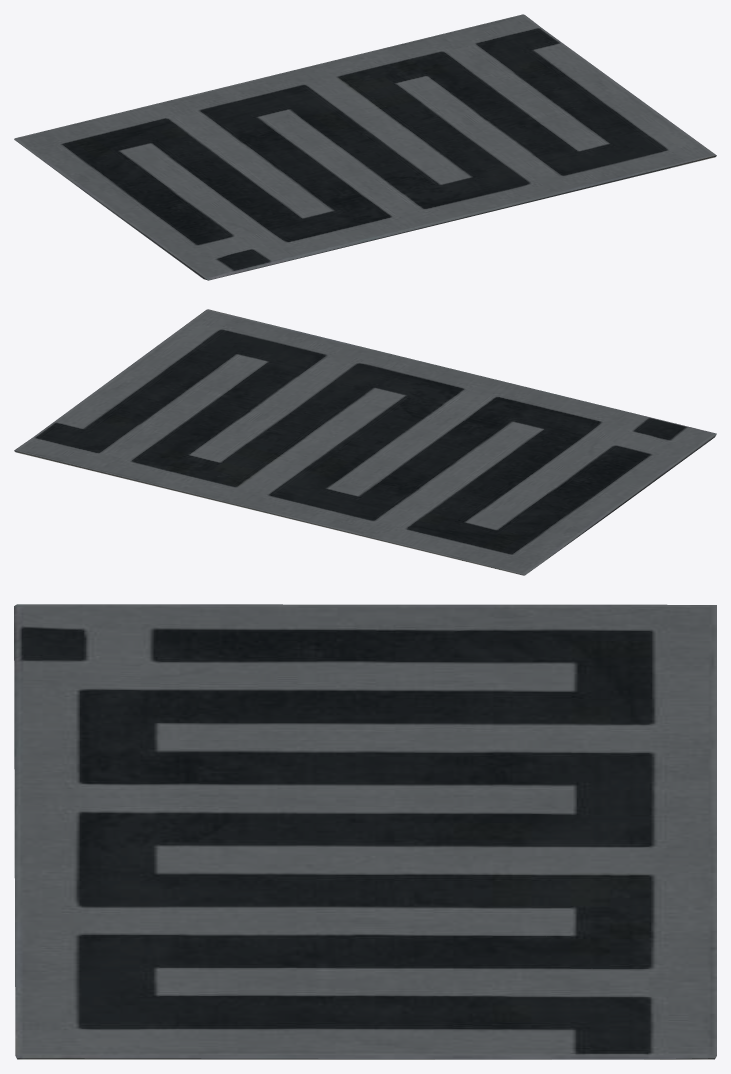
File: 12 - BLÅSKATA Rug - blackgrey 105x160 cm.glb
3 views of the same model, one above another, from view 1: azimuth 30°, elevation 25°; view 2: azimuth 150°, elevation 25°; view 3: azimuth 270°, elevation 25° (orthographic). The views are drawn at different scales.
Visible parts, largest first — view 1: ASY_ART_00569520_S01_NV01; view 2: ASY_ART_00569520_S01_NV01; view 3: ASY_ART_00569520_S01_NV01.
Boxes of the visible parts, box(x1,y1,x2,y2) form: ASY_ART_00569520_S01_NV01: box(14, 14, 716, 280); ASY_ART_00569520_S01_NV01: box(14, 309, 716, 575); ASY_ART_00569520_S01_NV01: box(14, 604, 716, 1059).
Size of the model in its own units: 1.6 by 0.01 by 1.05.
1 material, 1 textured.
